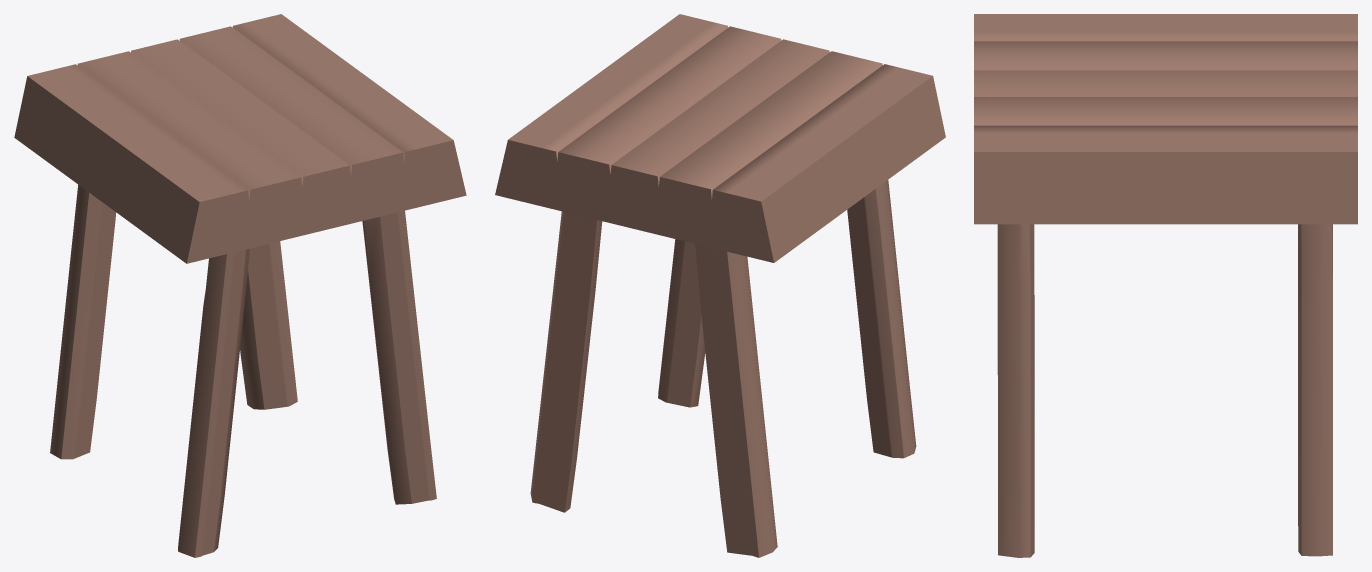
Rendered from chair.fbx.
3 renders of one model, left to right at view 1: azimuth 30°, elevation 25°; view 2: azimuth 150°, elevation 25°; view 3: azimuth 270°, elevation 25°, orthographic. The views are drawn at different scales.
Visible parts, largest first — view 1: chair; view 2: chair; view 3: chair.
Part boxes in pixels (x1=…): chair: x1=14, y1=14, x2=466, y2=557; chair: x1=495, y1=14, x2=945, y2=557; chair: x1=974, y1=14, x2=1357, y2=557.
Bounding box in the file's own units: 2.8 × 3.55 × 2.98.
